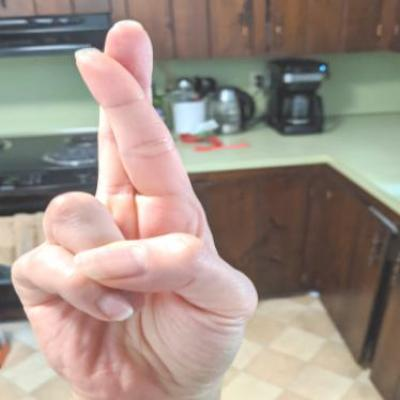hand: (1, 13, 265, 399)
